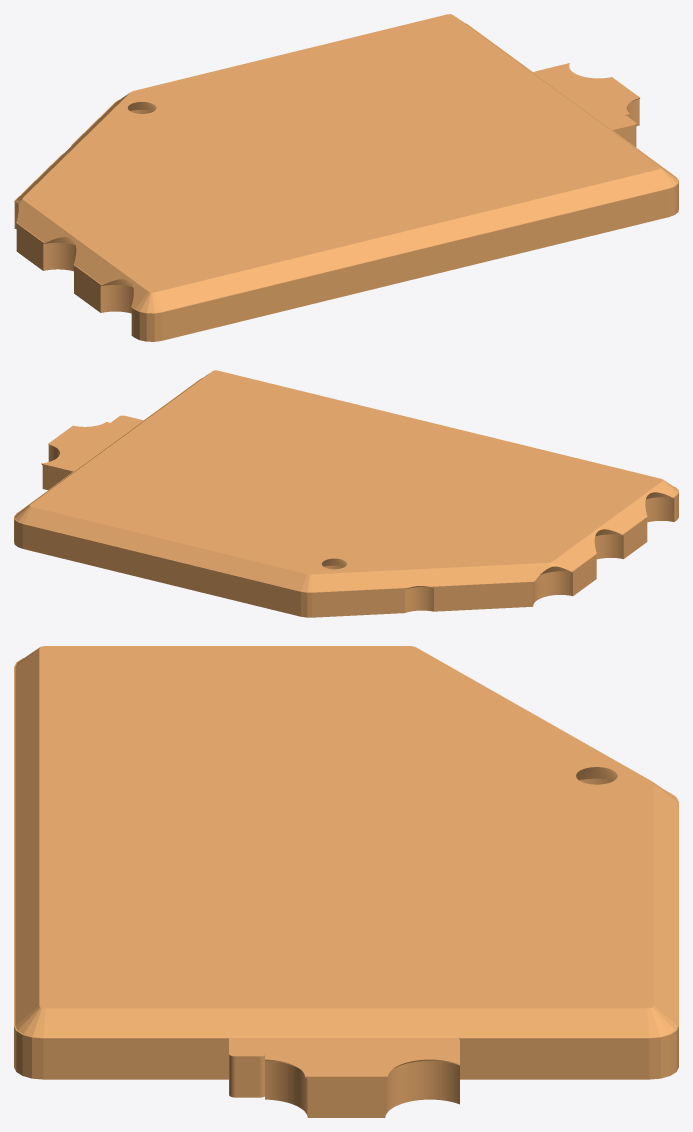
Rendered from kit-foil-wing.glb.
3 renders of one model, top to bottom at view 1: azimuth 30°, elevation 25°; view 2: azimuth 150°, elevation 25°; view 3: azimuth 270°, elevation 25°, orthographic. The views are drawn at different scales.
Parts seen in each view (by area): view 1: kit-foil-wing; view 2: kit-foil-wing; view 3: kit-foil-wing.
Part boxes in pixels (box(x1,y1,x2,y2)): kit-foil-wing: box(14, 14, 678, 341); kit-foil-wing: box(14, 370, 678, 617); kit-foil-wing: box(14, 646, 678, 1117).
Size of the model in its own units: 0.0748 by 0.005 by 0.0498.
